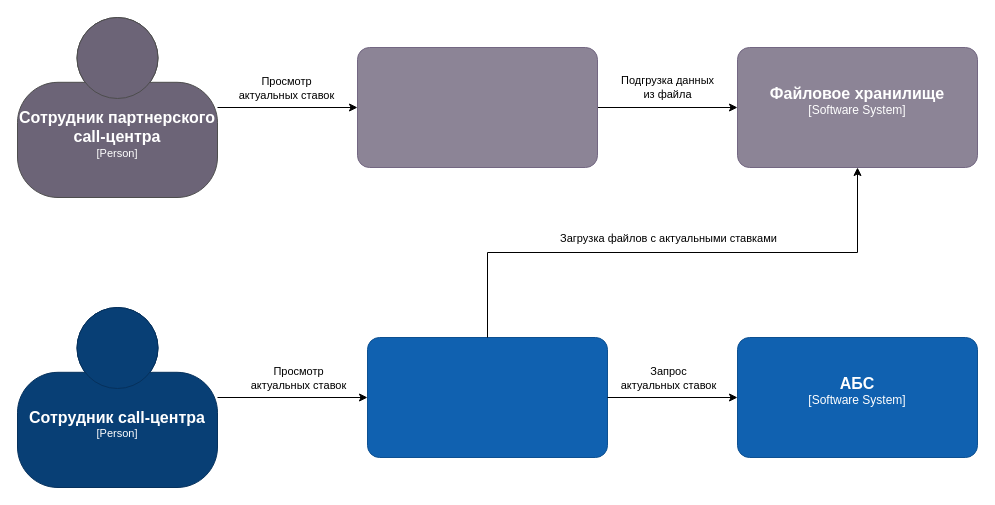
Some shapes in this 995 by 505 pixel diagram are drawn without their labels. The centre of each missing label's shape, as x and y in pixels:
"Система call-центра [Software System]" belongs at (487,397).
"Система партнерского call-центра [Software System]" belongs at (477,107).
